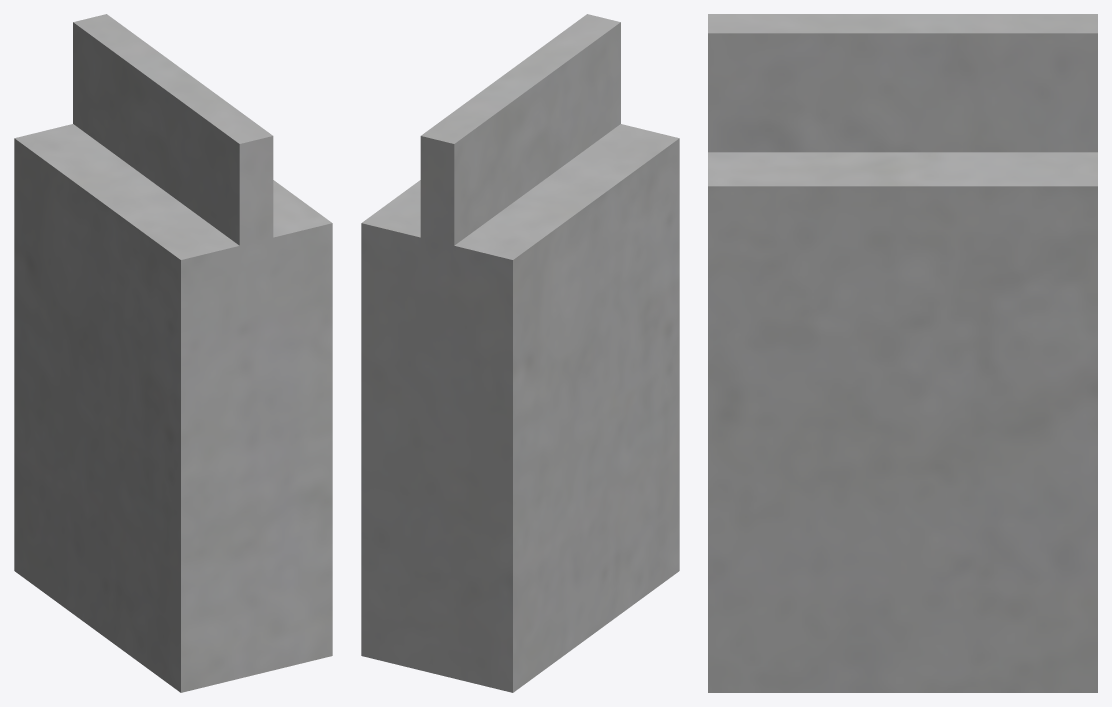
File: StraightComplete.fbx
3 views of the same model, side by side, from view 1: azimuth 30°, elevation 25°; view 2: azimuth 150°, elevation 25°; view 3: azimuth 270°, elevation 25° (orthographic). The views are drawn at different scales.
Parts seen in each view (by area): view 1: StairConcreteRailCompleteStraight; view 2: StairConcreteRailCompleteStraight; view 3: StairConcreteRailCompleteStraight.
Part boxes in pixels (left/top/right/bottom): StairConcreteRailCompleteStraight: left=14, top=14, right=332, bottom=692; StairConcreteRailCompleteStraight: left=361, top=14, right=679, bottom=692; StairConcreteRailCompleteStraight: left=708, top=14, right=1097, bottom=692.
Size of what is drawn, in the model's own units: 37.7 by 127 by 71.72.
